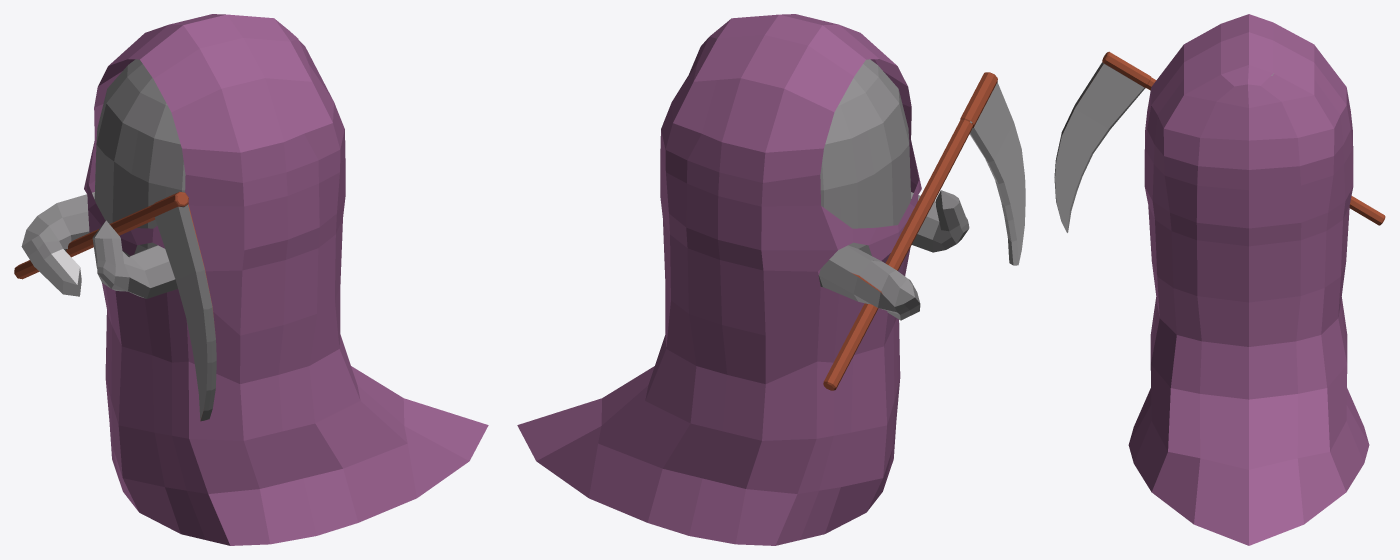
File: obake.obj
3 views of the same model, side by side, from view 1: azimuth 30°, elevation 25°; view 2: azimuth 150°, elevation 25°; view 3: azimuth 270°, elevation 25° (orthographic). The views are drawn at different scales.
Visible parts, largest first — view 1: Cube; view 2: Cube; view 3: Cube.
Boxes of the visible parts, box(x1,y1,x2,y2) form: Cube: box(14, 14, 488, 545); Cube: box(517, 14, 1025, 545); Cube: box(1054, 14, 1385, 545).
Size of the model in its own units: 4.36 by 4.63 by 3.39.
Materials: 1 (1 with a texture image).
